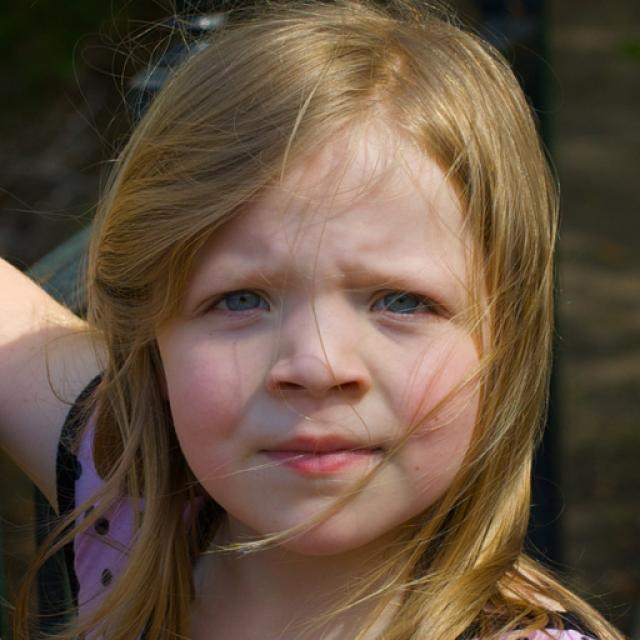sad: (160, 125, 489, 553)
